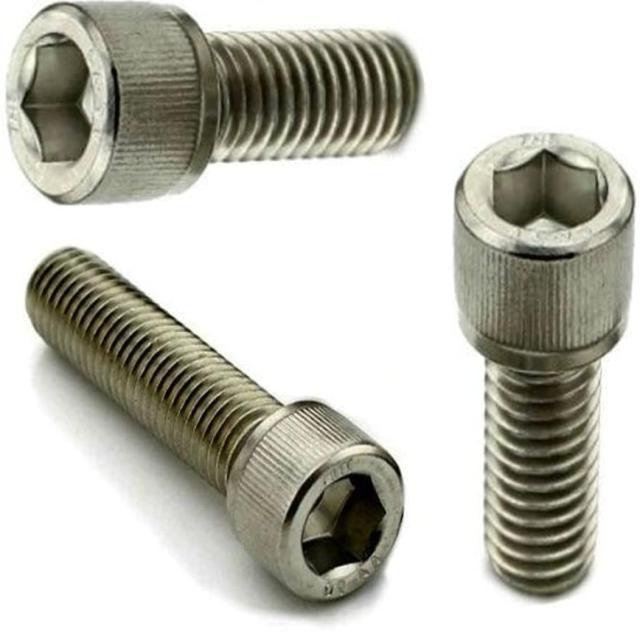allen: (0, 1, 128, 207), (447, 129, 636, 268), (274, 449, 405, 602)
